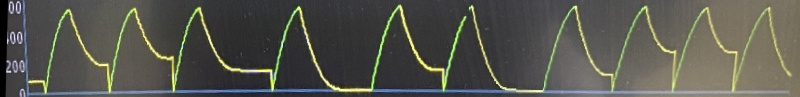leakage: (0, 1, 784, 97), (539, 1, 755, 97)
